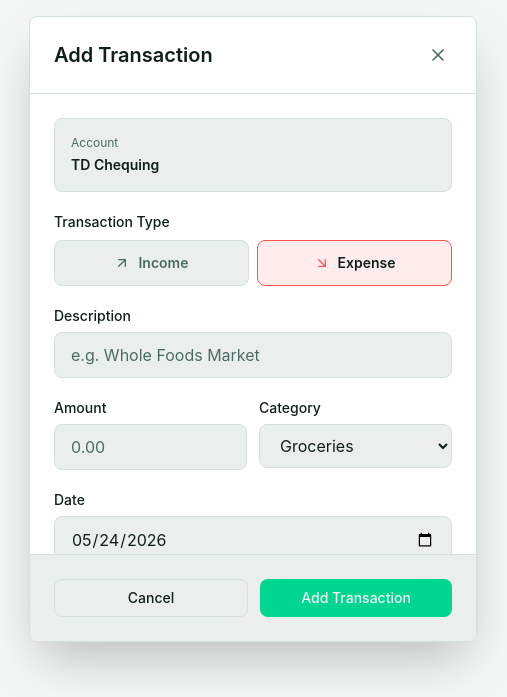
AddTransactionModal — validation › shows error when amount is zero
Note: Find by placeholder instead of label
In the field with placeholder "e.g. Whole Foods Market": [253, 355] box [54,332,452,378], type "Groceries"
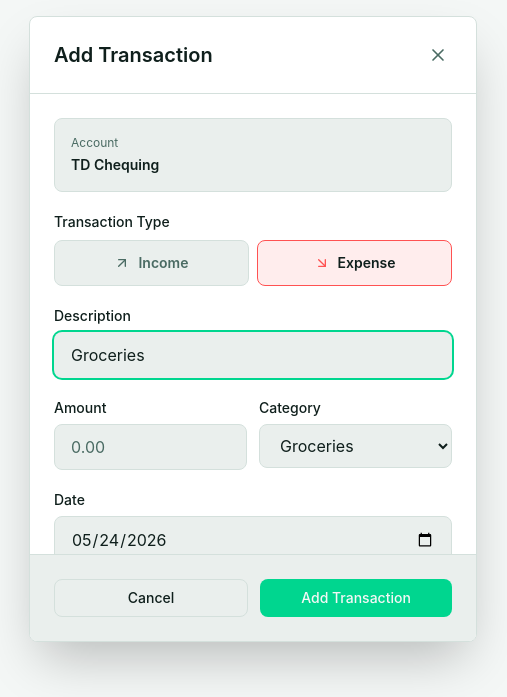
In the number field with placeholder "0.00": [150, 447] box [54,424,247,470], type "0"
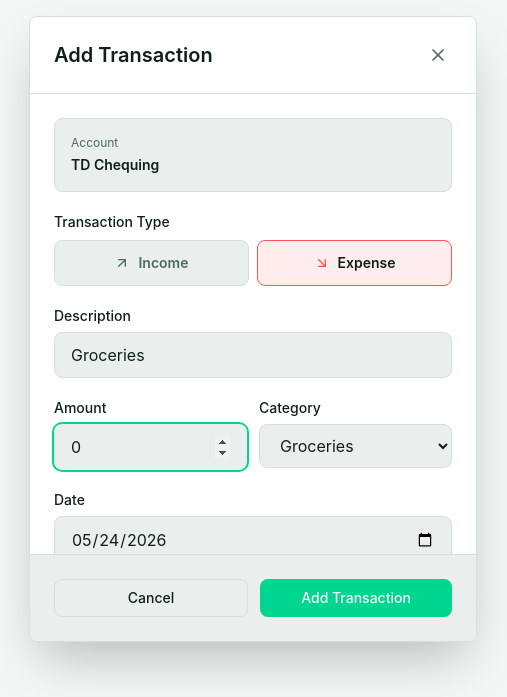
Click the button "Add Transaction": [356, 598] box [260,579,452,617]
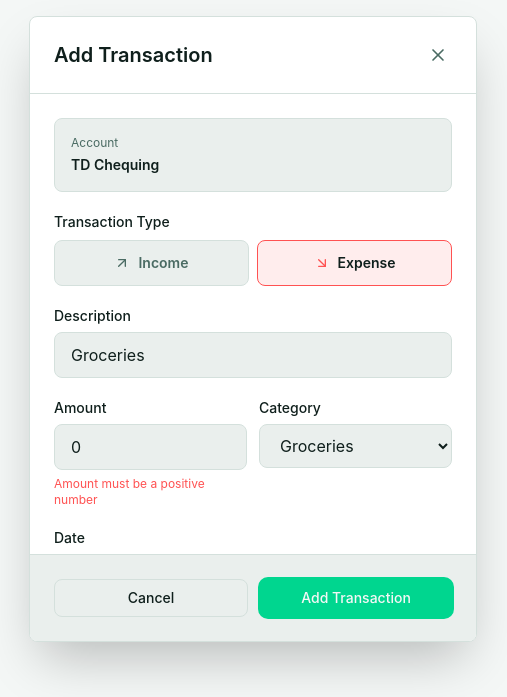
Expected: the text "Amount must be a positive number" is shown, [54,476,205,507]
